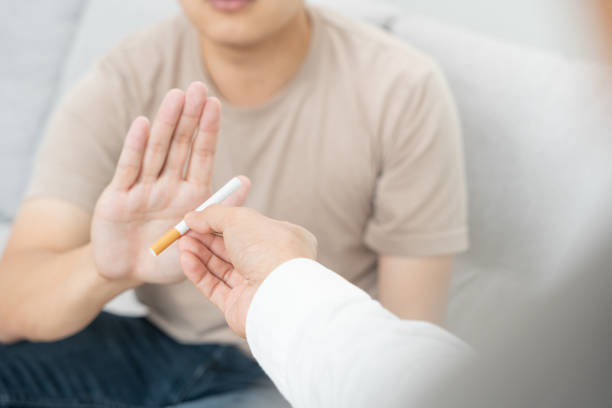cigarette: (146, 175, 244, 255)
